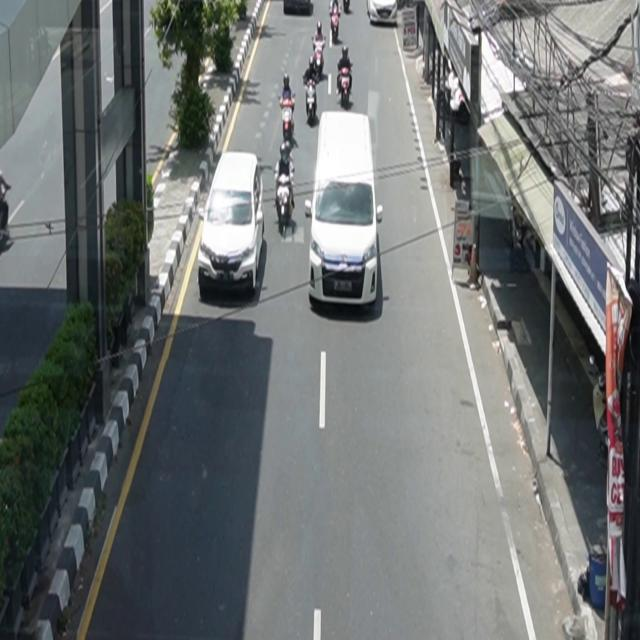car: (199, 151, 266, 298)
truck: (305, 110, 384, 310)
